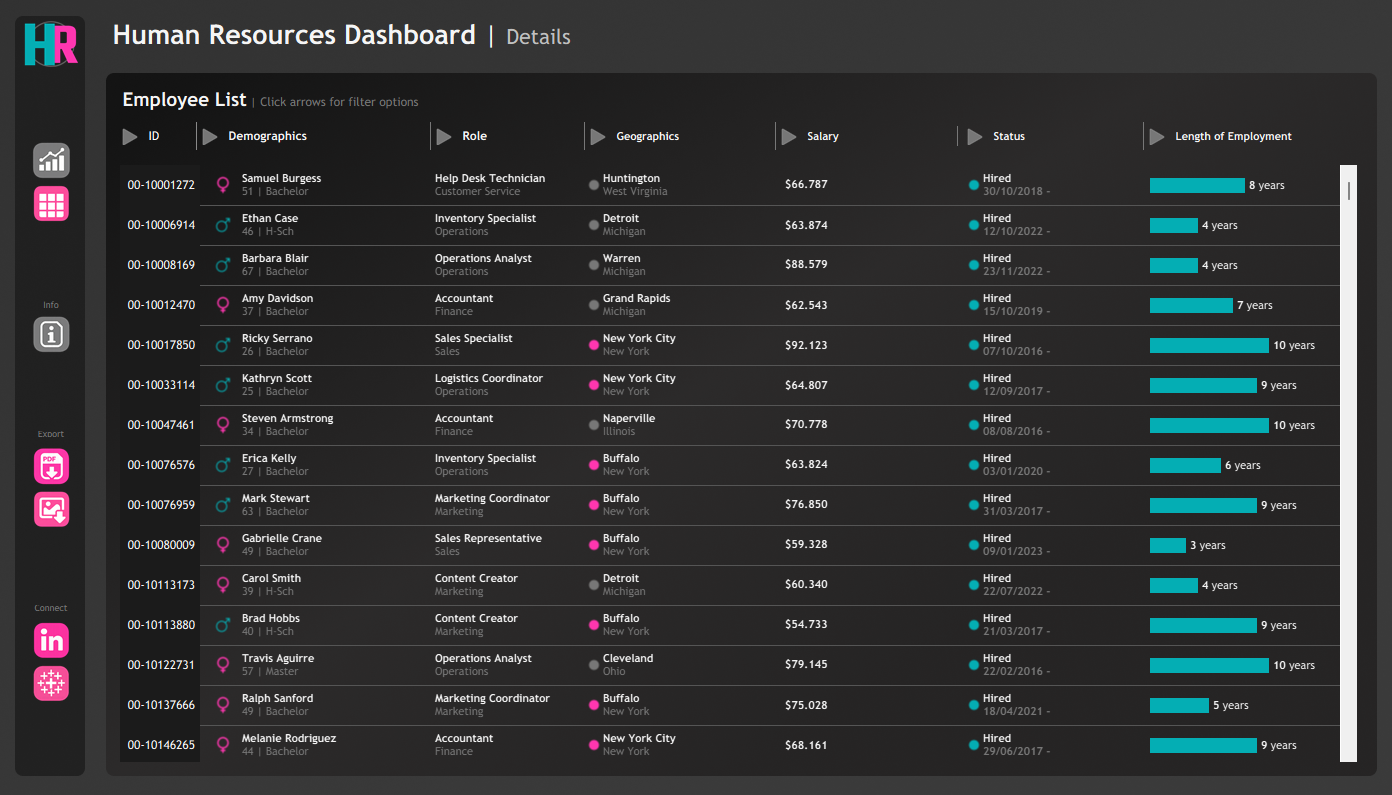

The dashboard page shown, as its layout file describes it:
{"tool":"tableau","page":{"name":"HR Detailed","canvas":[1400,800],"ordinal":0},"visuals":[{"type":"image","param":"Image/bg detail.png","box":[0,0,1400,800]},{"type":"blank","box":[90,0,1308,231]},{"type":"text","box":[110,0,673,78]},{"type":"blank","box":[783,0,597,78]},{"type":"image","param":"Image/Logo_out.png","box":[20,20,70,55]},{"type":"blank","box":[20,75,70,60]},{"type":"text","box":[120,88,1250,37]},{"type":"filter","title":"Employee List","param":"[federated.1sm890q15bl8hl1ebqggo0z0ojxl].[none:Calculation_1021760167137282:nk]","box":[194,122,233,46]},{"type":"filter","title":"Employee List","param":"[federated.1sm890q15bl8hl1ebqggo0z0ojxl].[none:Job Title:nk]","box":[428,122,154,48]},{"type":"filter","title":"Employee List","param":"[federated.1sm890q15bl8hl1ebqggo0z0ojxl].[none:Calculation_0285361651957766:nk]","box":[583,122,201,48]},{"type":"filter","title":"Employee List","param":"[federated.1sm890q15bl8hl1ebqggo0z0ojxl].[sum:Salary:qk]","box":[785,122,177,65]},{"type":"filter","title":"Employee List","param":"[federated.1sm890q15bl8hl1ebqggo0z0ojxl].[none:Calculation_1305433860177922:nk]","box":[971,122,181,48]},{"type":"filter","title":"Employee List","param":"[federated.1sm890q15bl8hl1ebqggo0z0ojxl].[sum:Calculation_1021760206999555:qk]","box":[1153,122,223,65]},{"type":"dashboard-object","box":[121,126,25,28]},{"type":"text","box":[146,126,54,28]},{"type":"blank","box":[200,126,1,28]},{"type":"dashboard-object","box":[201,126,25,28]},{"type":"text","box":[226,126,108,28]},{"type":"blank","box":[434,126,1,28]},{"type":"dashboard-object","box":[435,126,25,28]},{"type":"text","box":[460,126,128,28]},{"type":"blank","box":[588,126,1,28]},{"type":"dashboard-object","box":[589,126,25,28]},{"type":"text","box":[614,126,165,28]},{"type":"blank","box":[779,126,1,28]},{"type":"dashboard-object","box":[780,126,25,28]},{"type":"text","box":[805,126,152,28]},{"type":"blank","box":[957,126,9,28]},{"type":"dashboard-object","box":[966,126,25,28]},{"type":"text","box":[990.9,126,156,28]},{"type":"blank","box":[1147,126,1,28]},{"type":"dashboard-object","box":[1148,126,25,28]},{"type":"text","box":[1172.9,126,196.1,28]},{"type":"dashboard-object","box":[30,145,50,38]},{"type":"filter","title":"Employee List","param":"[federated.1sm890q15bl8hl1ebqggo0z0ojxl].[none:Employee_ID:nk]","box":[121,156,79,43]},{"type":"worksheet","title":"Employee List","mark":"Shape","rows":["Employee_ID"],"cols":["Calculation_1021760166731777","Calculation_1021760166731777","Calculation_1021760166731777","Calculation_1021760166731777","Calculation_1021760166731777","Calculation_1021760206999555"],"box":[120,165,1250,605]},{"type":"filter","title":"Employee List","param":"[federated.1sm890q15bl8hl1ebqggo0z0ojxl].[none:Gender:nk]","box":[194,168,233,46]},{"type":"filter","title":"Employee List","param":"[federated.1sm890q15bl8hl1ebqggo0z0ojxl].[none:Department:nk]","box":[428,170,154,48]},{"type":"filter","title":"Employee List","param":"[federated.1sm890q15bl8hl1ebqggo0z0ojxl].[none:State:nk]","box":[583,170,201,48]},{"type":"filter","title":"Employee List","param":"[federated.1sm890q15bl8hl1ebqggo0z0ojxl].[yr:Hiredate:ok]","box":[971,170,181,48]},{"type":"dashboard-object","box":[30,183,50,43]},{"type":"filter","title":"Employee List","param":"[federated.1sm890q15bl8hl1ebqggo0z0ojxl].[none:Calculation_1305433758306305:nk]","box":[194,214,233,46]},{"type":"filter","title":"Employee List","param":"[federated.1sm890q15bl8hl1ebqggo0z0ojxl].[none:City:nk]","box":[583,218,201,48]},{"type":"filter","title":"Employee List","param":"[federated.1sm890q15bl8hl1ebqggo0z0ojxl].[yr:Termdate:ok]","box":[971,218,181,48]},{"type":"blank","box":[30,226,50,73.3]},{"type":"text","box":[90,231,1308,200]},{"type":"filter","title":"Employee List","param":"[federated.1sm890q15bl8hl1ebqggo0z0ojxl].[none:Education Level:nk]","box":[194,260,233,46]},{"type":"text","box":[30,299.3,50,20]},{"type":"dashboard-object","box":[30,319.3,50,38]},{"type":"blank","box":[30,357.3,50,73.3]},{"type":"text","box":[30,430.7,50,20]},{"type":"dashboard-object","box":[30,450.7,50,38]},{"type":"dashboard-object","box":[30,488.7,50,43]},{"type":"blank","box":[30,531.7,50,73.3]},{"type":"text","box":[30,605,50,20]},{"type":"image","param":"Image/linkedin icon pink.png","box":[30,625,50,38]},{"type":"image","param":"Image/Untitled design (3).png","box":[30,663,50,43]}]}

Visuals, with their boxes on the page's 1400x800 design canvas (x1, y1, x2, y2). These are canvas units, not pixel positions in the 1392x795 screenshot, which may show the page scaled, cropped or inside an application window:
image: {"left": 0, "top": 0, "right": 1400, "bottom": 800}
blank: {"left": 90, "top": 0, "right": 1398, "bottom": 231}
text: {"left": 110, "top": 0, "right": 783, "bottom": 78}
blank: {"left": 783, "top": 0, "right": 1380, "bottom": 78}
image: {"left": 20, "top": 20, "right": 90, "bottom": 75}
blank: {"left": 20, "top": 75, "right": 90, "bottom": 135}
text: {"left": 120, "top": 88, "right": 1370, "bottom": 125}
"Employee List" filter: {"left": 194, "top": 122, "right": 427, "bottom": 168}
"Employee List" filter: {"left": 428, "top": 122, "right": 582, "bottom": 170}
"Employee List" filter: {"left": 583, "top": 122, "right": 784, "bottom": 170}
"Employee List" filter: {"left": 785, "top": 122, "right": 962, "bottom": 187}
"Employee List" filter: {"left": 971, "top": 122, "right": 1152, "bottom": 170}
"Employee List" filter: {"left": 1153, "top": 122, "right": 1376, "bottom": 187}
dashboard-object: {"left": 121, "top": 126, "right": 146, "bottom": 154}
text: {"left": 146, "top": 126, "right": 200, "bottom": 154}
blank: {"left": 200, "top": 126, "right": 201, "bottom": 154}
dashboard-object: {"left": 201, "top": 126, "right": 226, "bottom": 154}
text: {"left": 226, "top": 126, "right": 334, "bottom": 154}
blank: {"left": 434, "top": 126, "right": 435, "bottom": 154}
dashboard-object: {"left": 435, "top": 126, "right": 460, "bottom": 154}
text: {"left": 460, "top": 126, "right": 588, "bottom": 154}
blank: {"left": 588, "top": 126, "right": 589, "bottom": 154}
dashboard-object: {"left": 589, "top": 126, "right": 614, "bottom": 154}
text: {"left": 614, "top": 126, "right": 779, "bottom": 154}
blank: {"left": 779, "top": 126, "right": 780, "bottom": 154}
dashboard-object: {"left": 780, "top": 126, "right": 805, "bottom": 154}
text: {"left": 805, "top": 126, "right": 957, "bottom": 154}
blank: {"left": 957, "top": 126, "right": 966, "bottom": 154}
dashboard-object: {"left": 966, "top": 126, "right": 991, "bottom": 154}
text: {"left": 991, "top": 126, "right": 1147, "bottom": 154}
blank: {"left": 1147, "top": 126, "right": 1148, "bottom": 154}
dashboard-object: {"left": 1148, "top": 126, "right": 1173, "bottom": 154}
text: {"left": 1173, "top": 126, "right": 1369, "bottom": 154}
dashboard-object: {"left": 30, "top": 145, "right": 80, "bottom": 183}
"Employee List" filter: {"left": 121, "top": 156, "right": 200, "bottom": 199}
"Employee List" worksheet (Shape marks): {"left": 120, "top": 165, "right": 1370, "bottom": 770}
"Employee List" filter: {"left": 194, "top": 168, "right": 427, "bottom": 214}
"Employee List" filter: {"left": 428, "top": 170, "right": 582, "bottom": 218}
"Employee List" filter: {"left": 583, "top": 170, "right": 784, "bottom": 218}
"Employee List" filter: {"left": 971, "top": 170, "right": 1152, "bottom": 218}
dashboard-object: {"left": 30, "top": 183, "right": 80, "bottom": 226}
"Employee List" filter: {"left": 194, "top": 214, "right": 427, "bottom": 260}
"Employee List" filter: {"left": 583, "top": 218, "right": 784, "bottom": 266}
"Employee List" filter: {"left": 971, "top": 218, "right": 1152, "bottom": 266}
blank: {"left": 30, "top": 226, "right": 80, "bottom": 299}
text: {"left": 90, "top": 231, "right": 1398, "bottom": 431}
"Employee List" filter: {"left": 194, "top": 260, "right": 427, "bottom": 306}
text: {"left": 30, "top": 299, "right": 80, "bottom": 319}
dashboard-object: {"left": 30, "top": 319, "right": 80, "bottom": 357}
blank: {"left": 30, "top": 357, "right": 80, "bottom": 431}
text: {"left": 30, "top": 431, "right": 80, "bottom": 451}
dashboard-object: {"left": 30, "top": 451, "right": 80, "bottom": 489}
dashboard-object: {"left": 30, "top": 489, "right": 80, "bottom": 532}
blank: {"left": 30, "top": 532, "right": 80, "bottom": 605}
text: {"left": 30, "top": 605, "right": 80, "bottom": 625}
image: {"left": 30, "top": 625, "right": 80, "bottom": 663}
image: {"left": 30, "top": 663, "right": 80, "bottom": 706}
